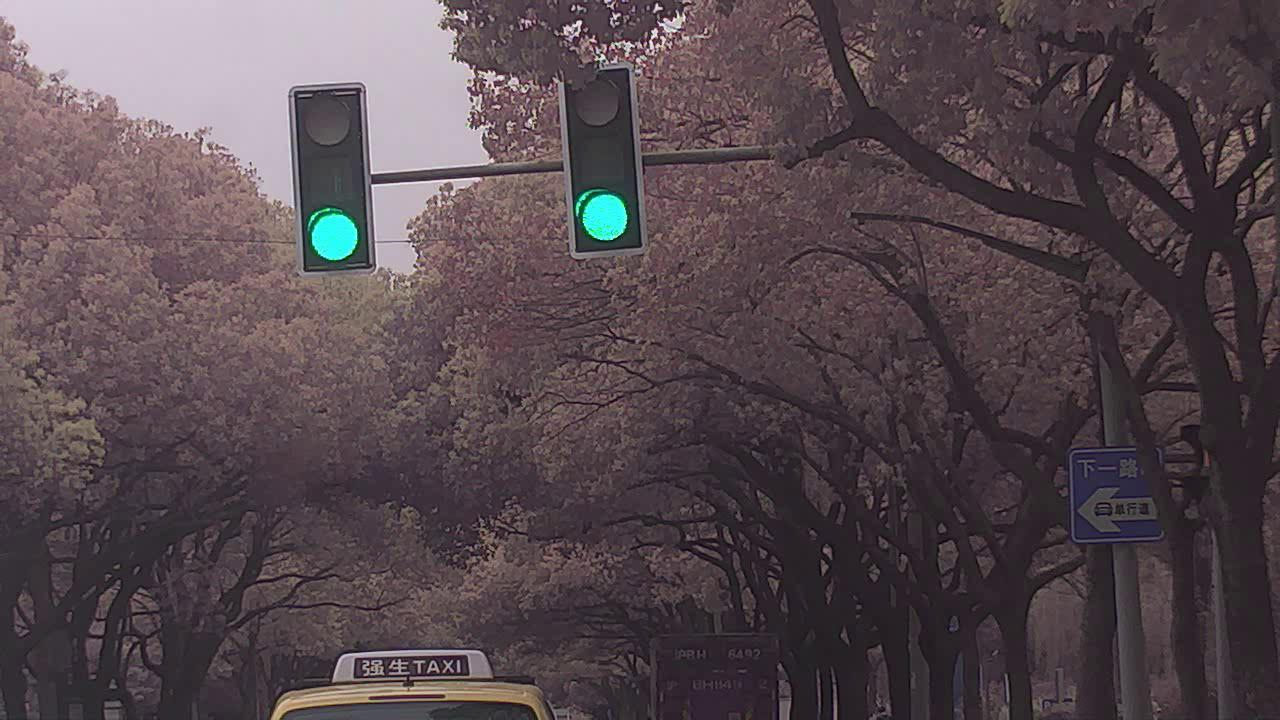traffic_light: (556, 65, 649, 260), (296, 85, 374, 267)
